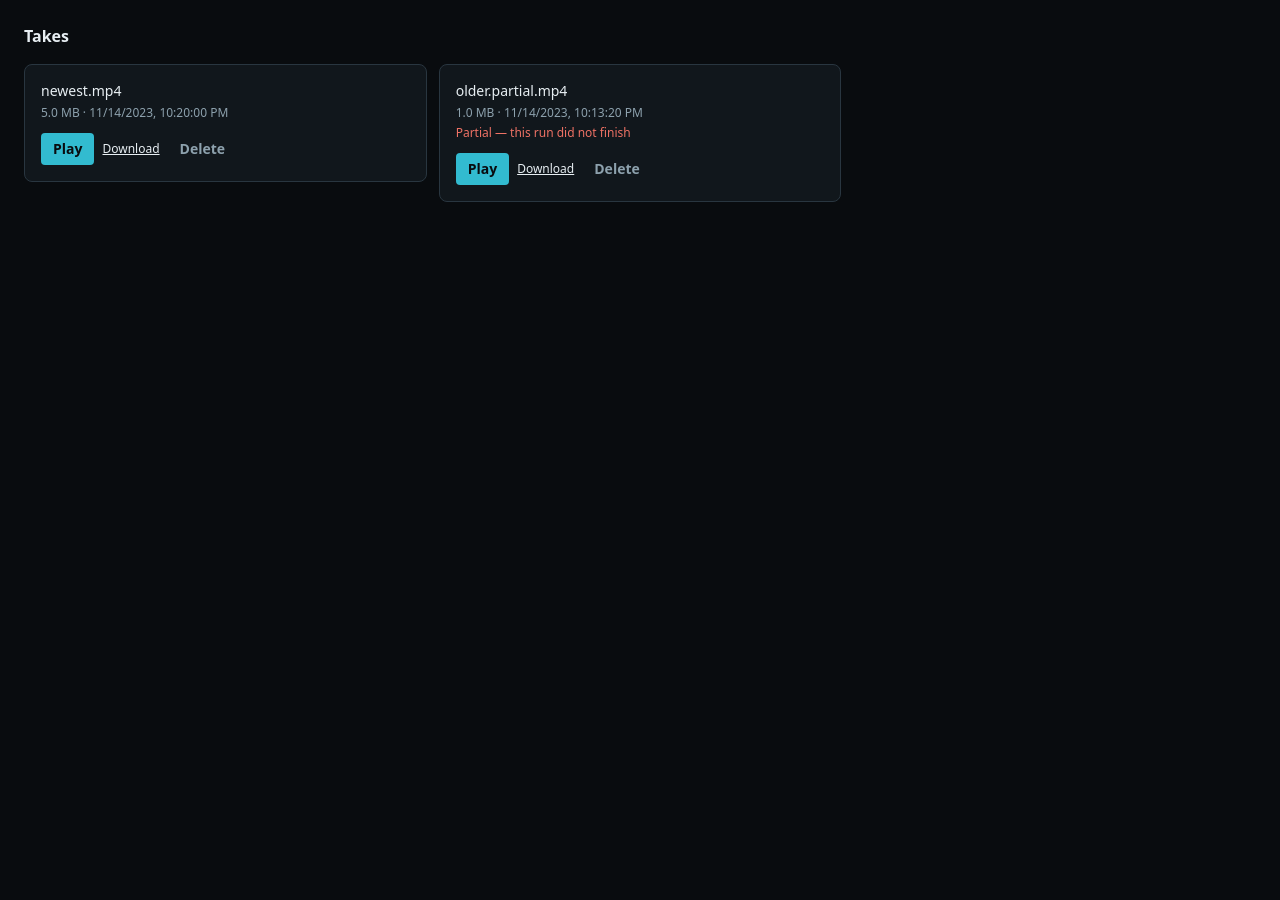
Test: gallery view › confirms before deleting and drops the take from the list on success
The width and height of the screenshot is (1280, 900).
Step 1. Click the button with test id "take-delete" → click(202, 149), box [168,133,237,165]
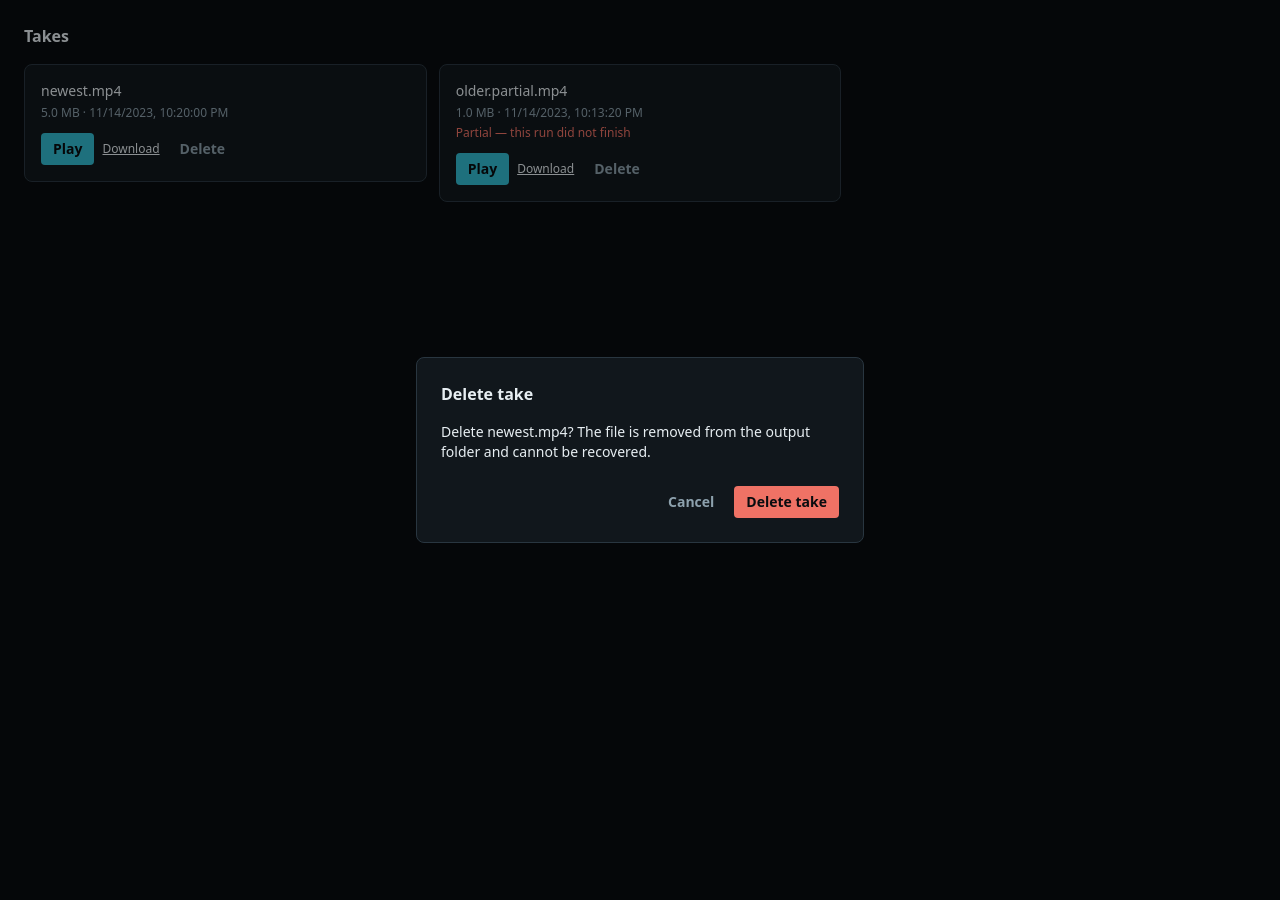
Step 2. Click the button with test id "take-delete-confirm" → click(787, 502), box [734,486,839,518]
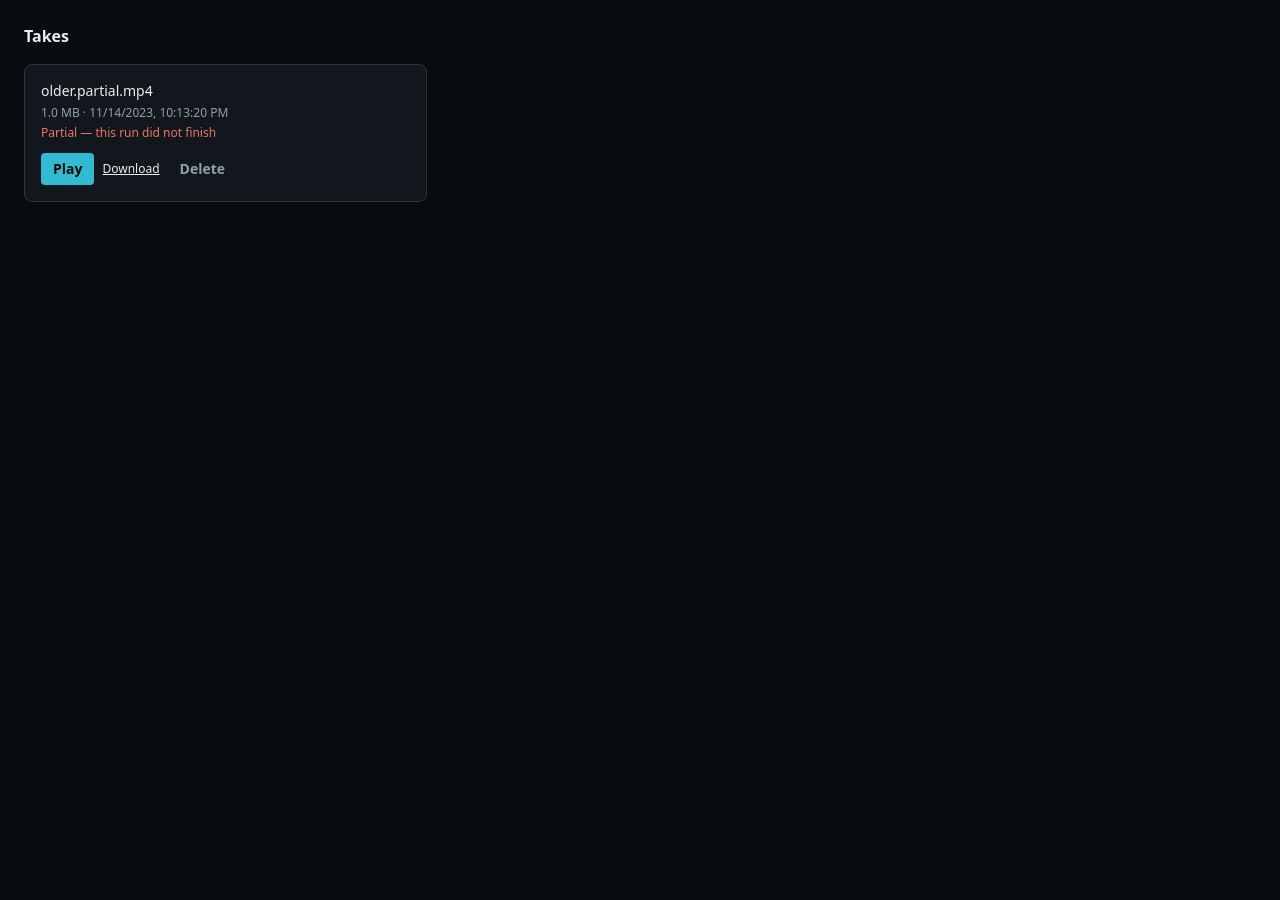
Check: the element with test id "take-item" shows "older.partial.mp4", box [41,81,153,100]
Check: the number of elements with test id "take-item" is 1, box [24,64,427,202]
